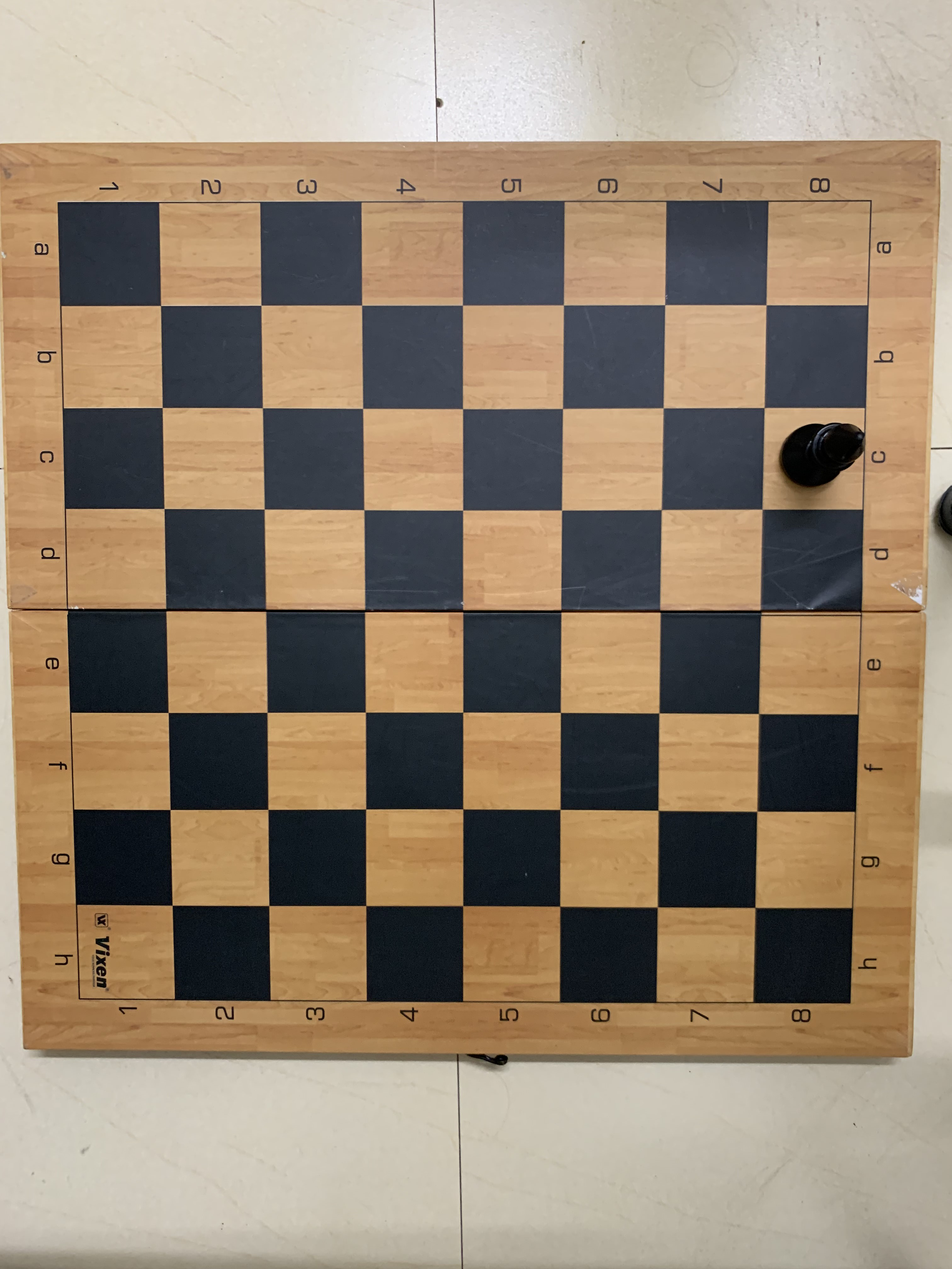black_bishop: (767, 408, 872, 511)
